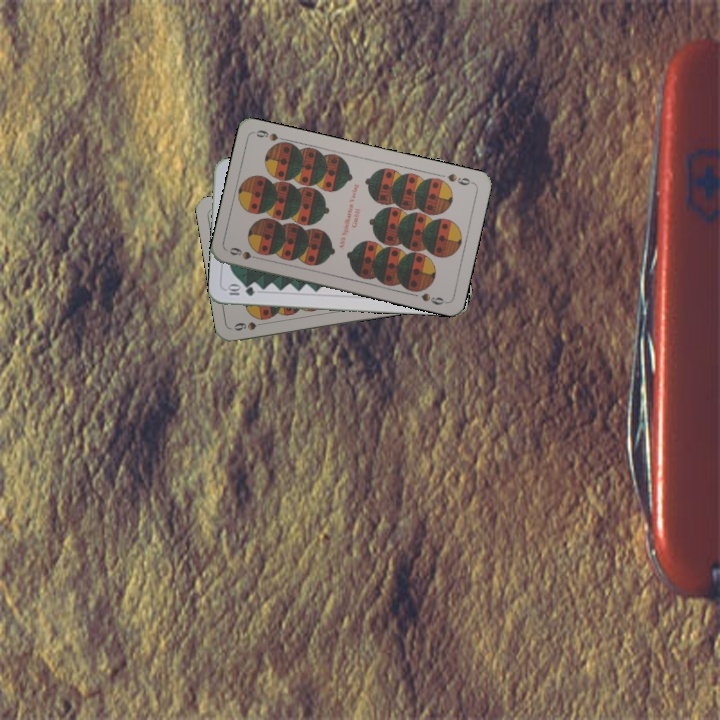G10: (223, 282, 257, 298)
S9: (225, 243, 265, 262), (443, 169, 476, 188), (230, 318, 270, 333)
